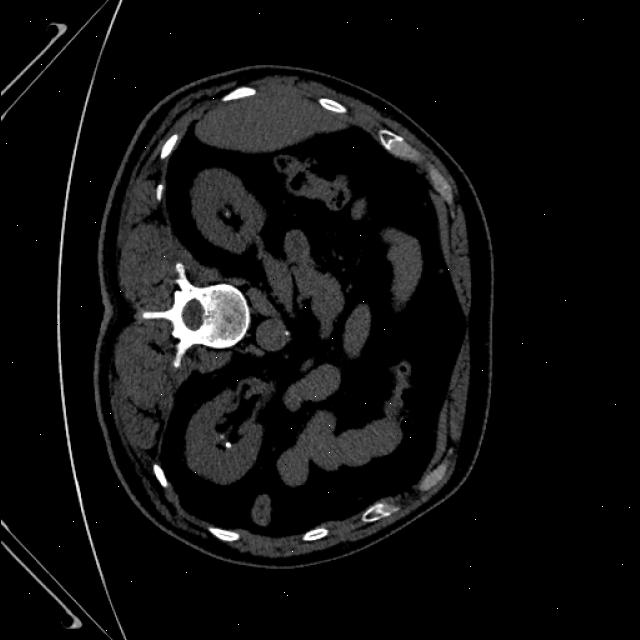kidneystone: (223, 441, 231, 449)
